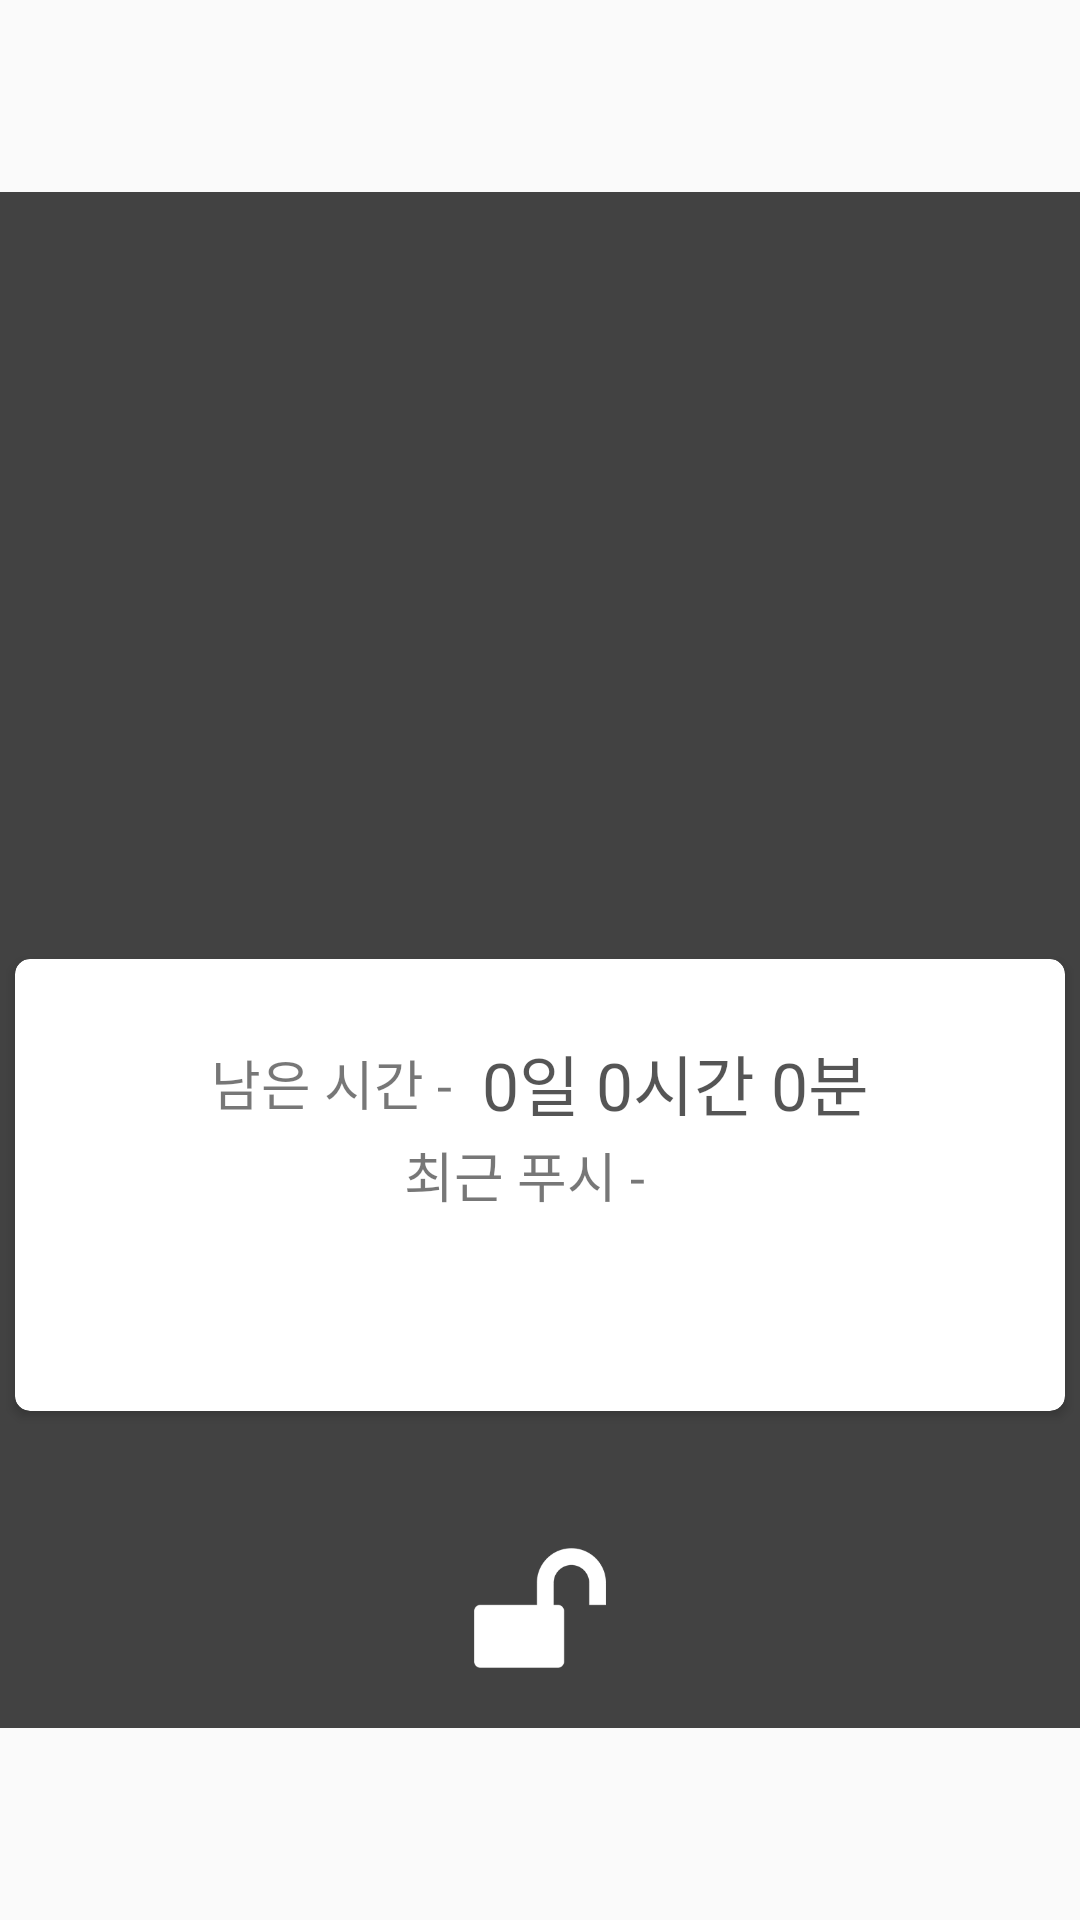

Named icons in this screenshot (1080px×1920px) and their centers, (x,y):
unlock: (540,1608)
